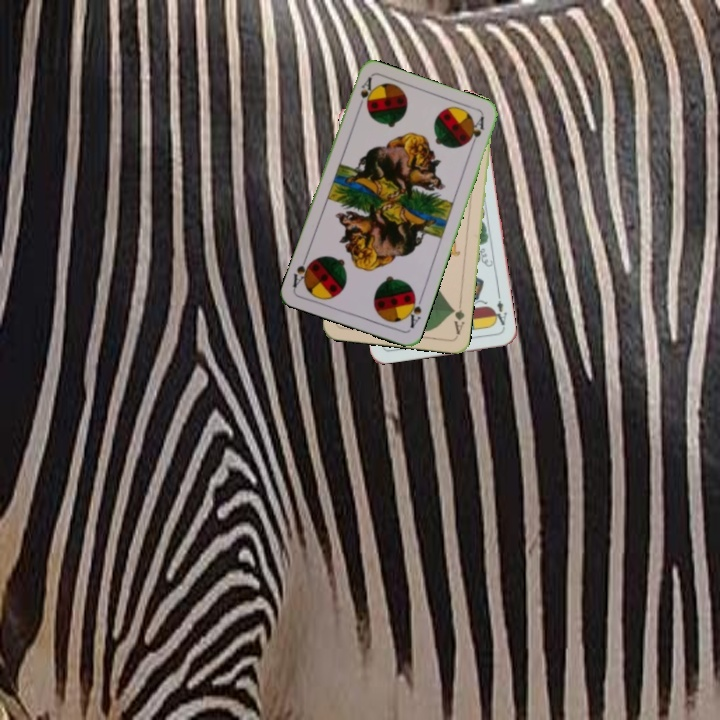EA: (489, 291, 509, 328)
GA: (448, 297, 467, 337)
SA: (402, 290, 425, 331), (353, 74, 375, 113)
